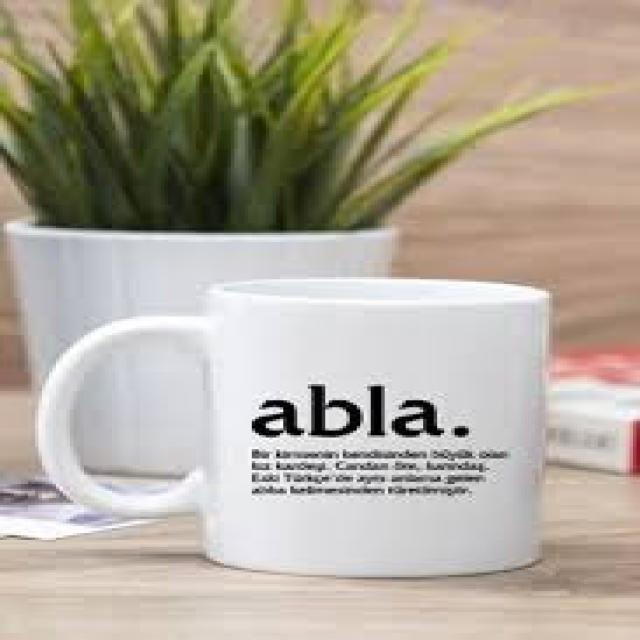taza: (36, 277, 554, 582)
